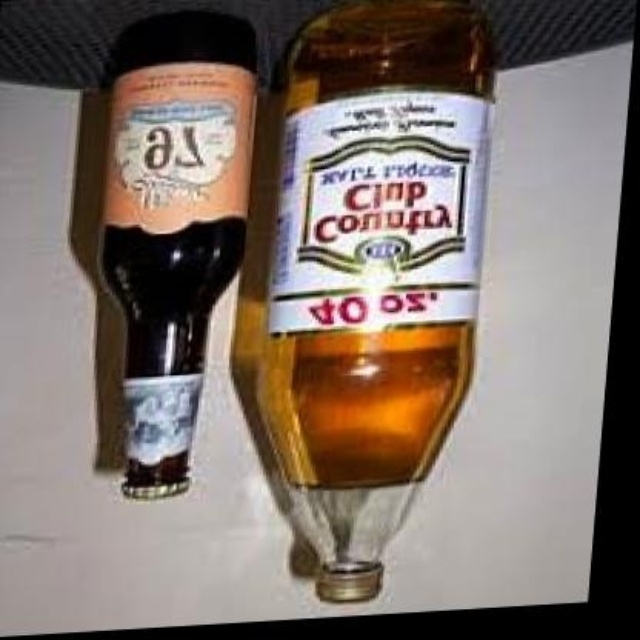trash: (232, 0, 491, 602), (103, 12, 255, 498)
